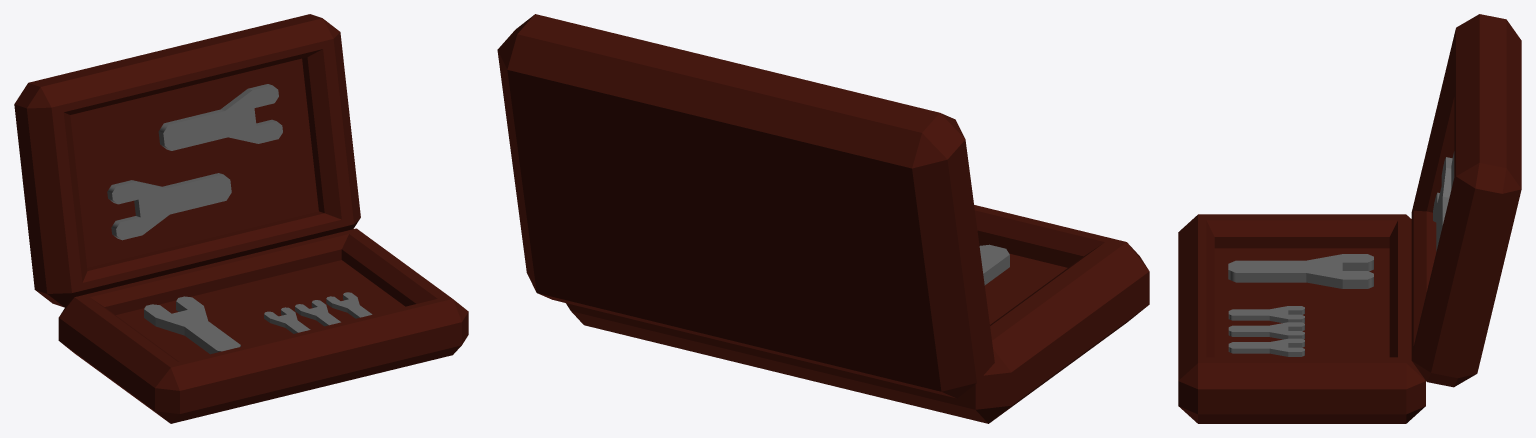
File: ToolCase.fbx
The picture shows the model from 3 angles, left to right: view 1: azimuth 30°, elevation 25°; view 2: azimuth 150°, elevation 25°; view 3: azimuth 270°, elevation 25°; orthographic projection. The views are drawn at different scales.
Visible parts, largest first — view 1: ToolCase; view 2: ToolCase; view 3: ToolCase.
Boxes of the visible parts, <box> form: ToolCase: <box>14,14,468,423</box>; ToolCase: <box>497,14,1149,423</box>; ToolCase: <box>1178,14,1521,423</box>.
Size of the model in its own units: 0.4895 by 0.3604 by 0.4293.
1 material, 1 textured.
